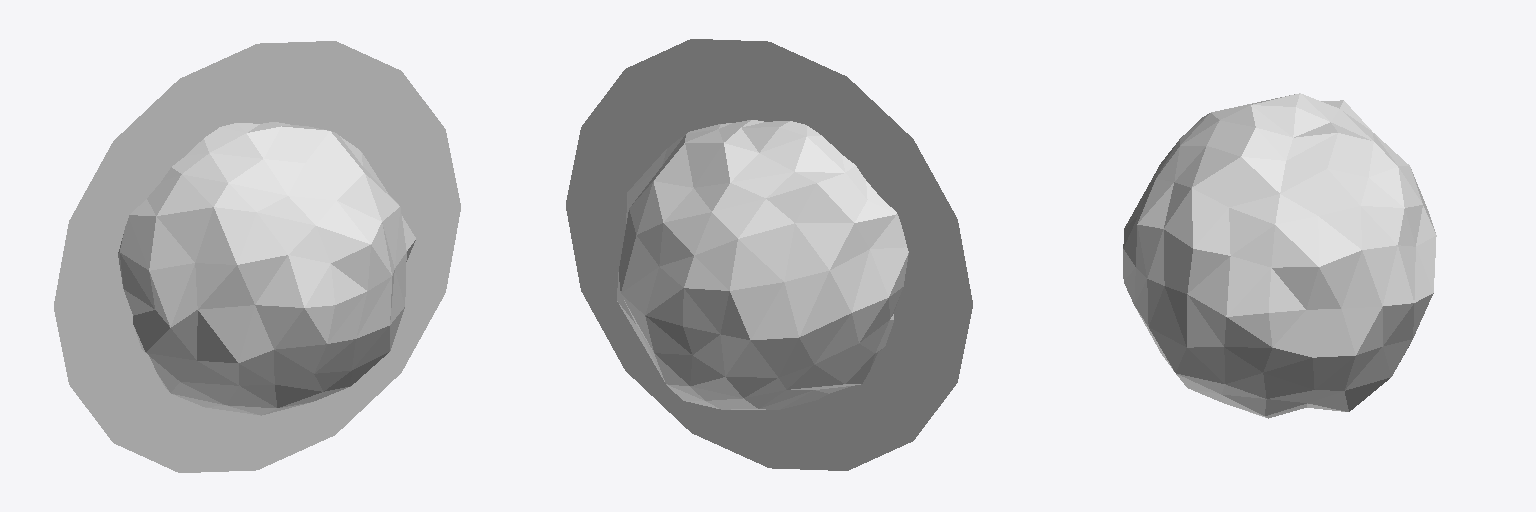
The model's file is Fireball.obj.
3 views of the same model, side by side, from view 1: azimuth 30°, elevation 25°; view 2: azimuth 150°, elevation 25°; view 3: azimuth 270°, elevation 25° (orthographic).
Parts seen in each view (by area): view 1: polygon0, polygon1; view 2: polygon1, polygon0; view 3: polygon0.
Boxes of the visible parts, x1,y1,x2,y2 form: polygon0: [118, 122, 415, 415]; polygon1: [54, 41, 460, 472]; polygon1: [566, 39, 972, 470]; polygon0: [617, 120, 908, 409]; polygon0: [1123, 93, 1436, 418].
Bounding box in the file's own units: 31.4 × 31.4 × 20.88.